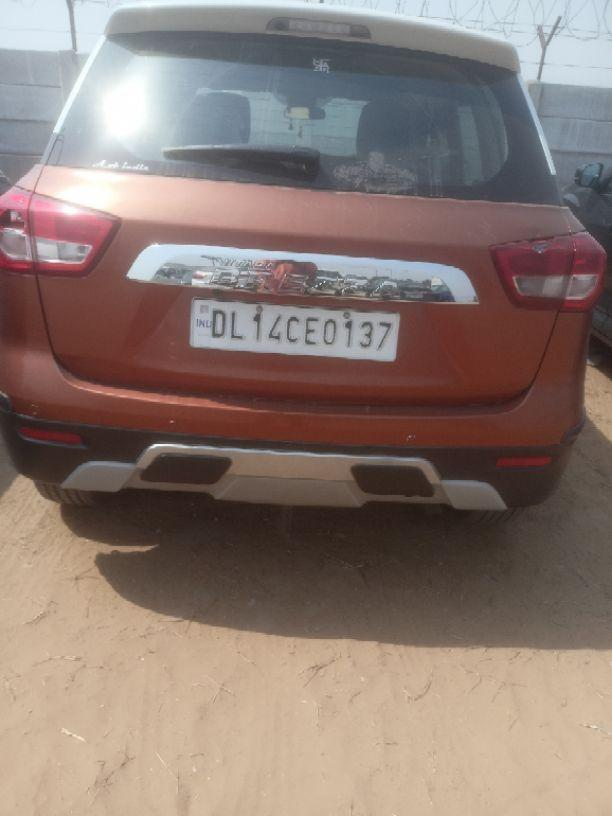license_plate: (187, 295, 401, 362)
